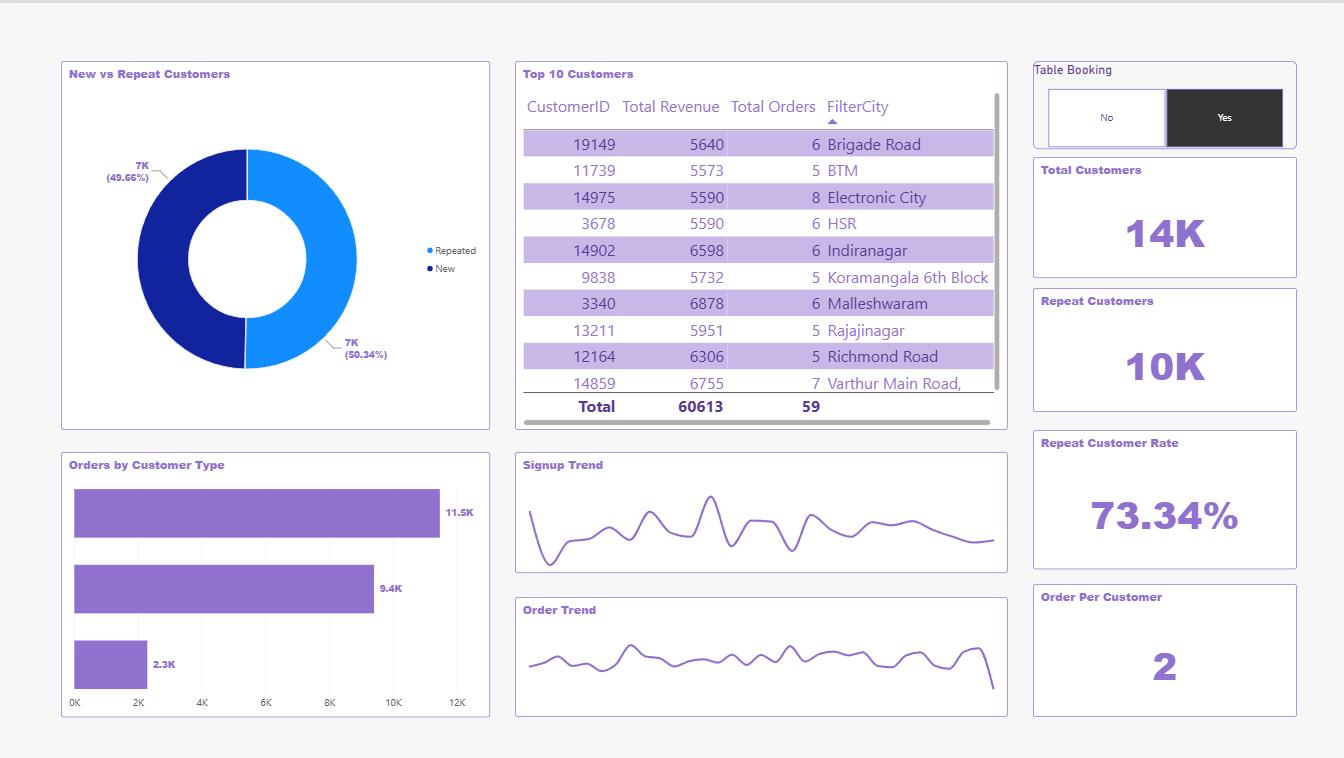

The dashboard page shown, as its layout file describes it:
{"tool":"powerbi","page":{"name":"Customer Analytics","canvas":[1920,1080],"ordinal":1},"visuals":[{"type":"card","title":"Repeat Customers","fields":{"Values":["Orders.Repeat Customers"]},"box":[1475,235,377.5,125],"z":0},{"type":"card","title":"Repeat Customer Rate","fields":{"Values":["Orders.Repeat Customer %"]},"box":[1475,377.5,377.5,142.5],"z":1000},{"type":"card","title":"Order Per Customer","fields":{"Values":["Orders.Orders Per Customer"]},"box":[1475,540,377.5,137.5],"z":2000},{"type":"card","title":"Total Customers","fields":{"Values":["Orders.Total Customers"]},"box":[1475,82.5,377.5,137.5],"z":3000},{"type":"lineChart","title":"Signup Trend","fields":{"Category":["Customers.SignupDate.Variation.Date Hierarchy.Year","Customers.SignupDate.Variation.Date Hierarchy.Month"],"Y":["Orders.Total Customers"]},"box":[745,700,1107.5,150],"z":4000},{"type":"lineChart","title":"Order Trend","fields":{"Category":["DateTable.Date.Variation.Date Hierarchy.Year","DateTable.Date.Variation.Date Hierarchy.Month"],"Y":["Orders.Total Orders"]},"box":[745,870,1107.5,150],"z":5000},{"type":"clusteredBarChart","title":"Orders by Customer Type","fields":{"Category":["Customers.CustomerType"],"Y":["Orders.Total Orders"]},"box":[745.7,82.9,691.4,594.3],"z":6000},{"type":"donutChart","title":"New vs Repeat Customers ","fields":{"Category":["Customers.RepeatedvsNew"],"Y":["Orders.Total Customers"]},"box":[87.5,82.5,612.5,480],"z":7000},{"type":"tableEx","title":"Top 10 Customers","fields":{"Values":["Orders.CustomerID","Orders.Total Revenue","Orders.Total Orders","Customers.FilterCity"]},"box":[87.5,595,612.5,425],"z":8000}]}

Visuals, with their boxes in screenshot pixels (x1, y1, x2, y2), scaled from the page's 1920x1080 canvas onto the 1344x758 screenshot:
"Repeat Customers" card: box=[1032, 165, 1297, 253]
"Repeat Customer Rate" card: box=[1032, 265, 1297, 365]
"Order Per Customer" card: box=[1032, 379, 1297, 476]
"Total Customers" card: box=[1032, 58, 1297, 154]
"Signup Trend" lineChart: box=[522, 491, 1297, 597]
"Order Trend" lineChart: box=[522, 611, 1297, 716]
"Orders by Customer Type" clusteredBarChart: box=[522, 58, 1006, 475]
"New vs Repeat Customers " donutChart: box=[61, 58, 490, 395]
"Top 10 Customers" tableEx: box=[61, 418, 490, 716]
